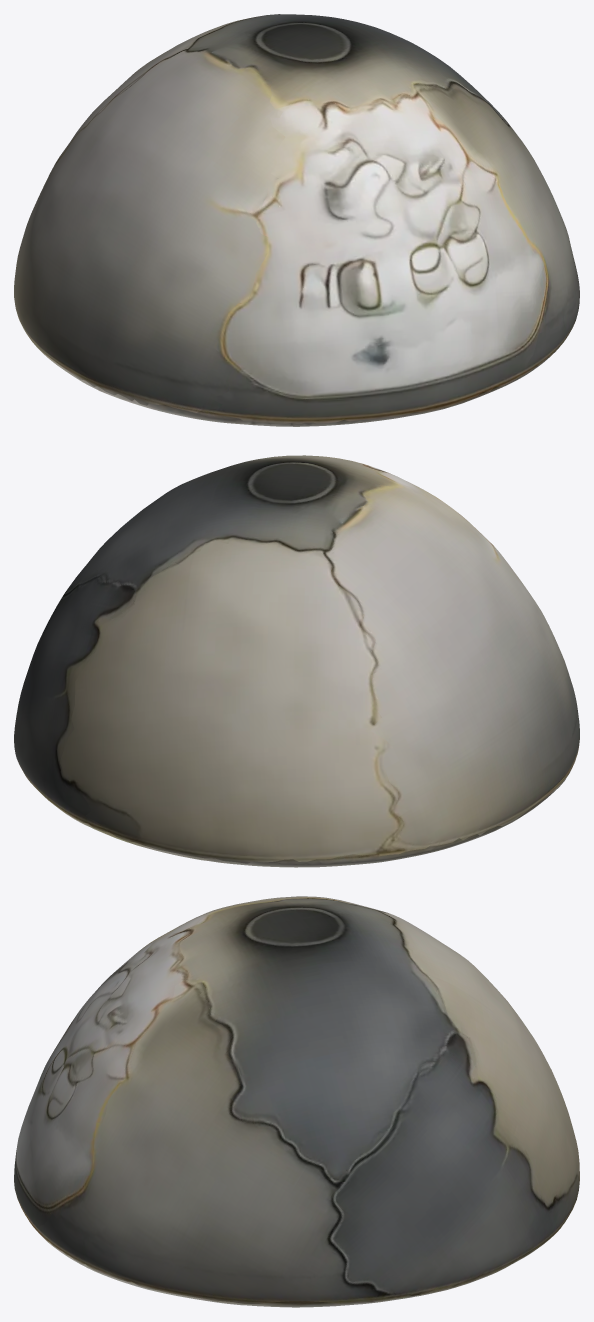
File: balcao_padaria.glb
3 renders of one model, top to bottom at view 1: azimuth 30°, elevation 25°; view 2: azimuth 150°, elevation 25°; view 3: azimuth 270°, elevation 25°, orthographic.
Visible parts, largest first — view 1: world; view 2: world; view 3: world.
Part boxes in pixels (x1,y1,x2,y2): world: (14, 14, 579, 426); world: (14, 455, 579, 867); world: (14, 896, 579, 1307).
Bounding box in the file's own units: 0.2842 × 0.1514 × 0.2852.
Materials: 1 (1 with a texture image).
